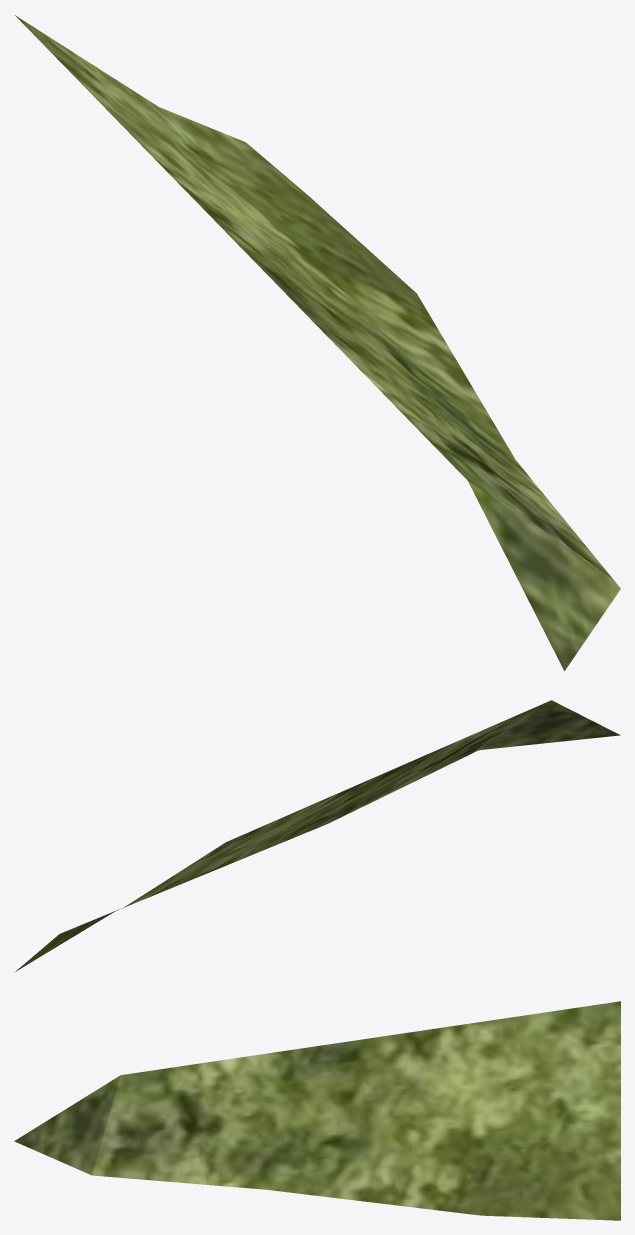
The picture shows the model from 3 angles, top to bottom: view 1: azimuth 30°, elevation 25°; view 2: azimuth 150°, elevation 25°; view 3: azimuth 270°, elevation 25°; orthographic projection. The views are drawn at different scales.
Bounding box in the file's own units: 0.6428 × 0.5284 × 2.08.
Materials: 1 (1 with a texture image).
